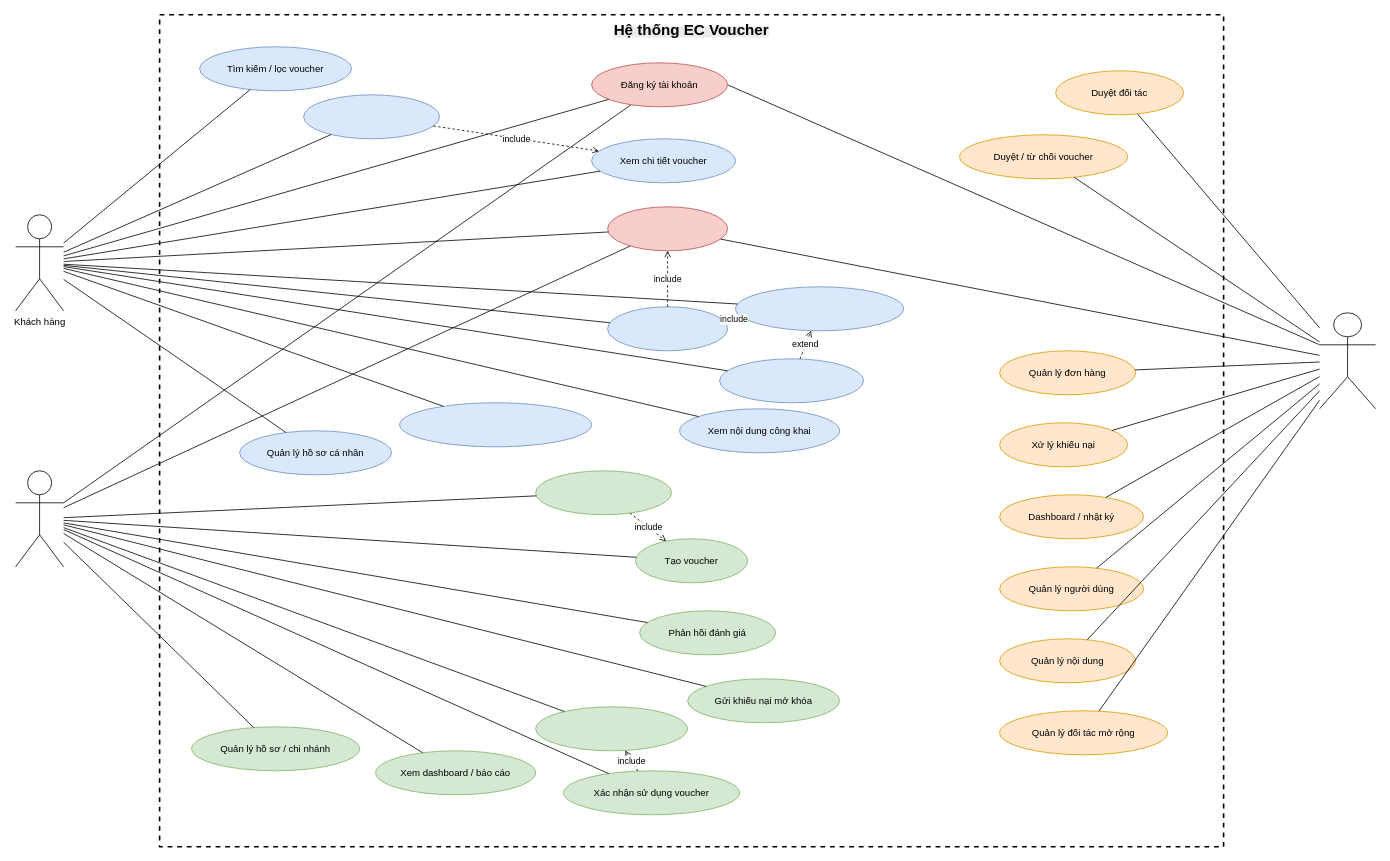
Some shapes in this 1390 by 861 pixel diagram are drawn without their labels. The centre of each missing label's shape, as x and y in pixels:
Gửi duyệt voucher: point 603,492
Kiểm tra voucher code: point 611,728
Quản trị viên: point 1347,360
Thanh toán và nhận code: point 819,308
Thêm vào giỏ hàng: point 371,116
Tạo đơn hàng: point 667,328
Xem đơn hàng / voucher đã mua: point 495,424
Đánh giá / khiếu nại: point 791,380
Đăng nhập: point 667,228
Đối tác: point 39,518
